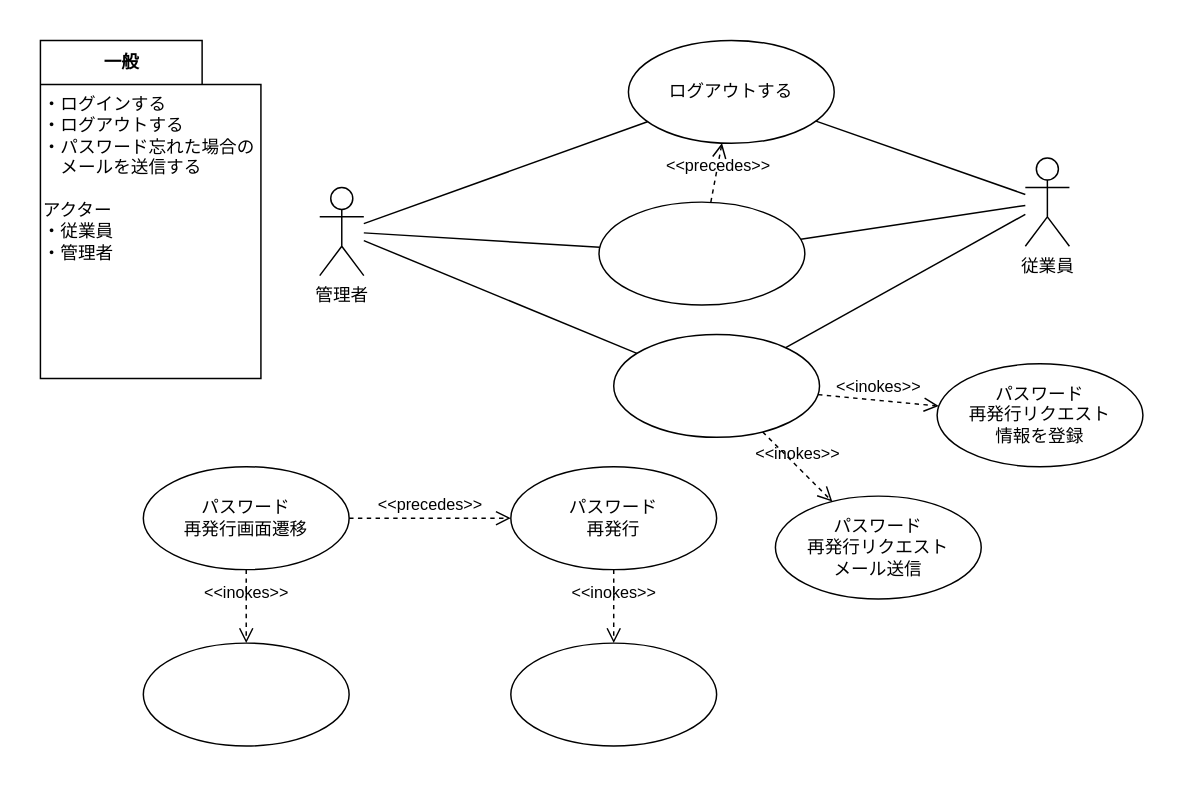
This 1197x785 diagram has some shape labels left out. The shapes that lost their labels are listed below. From the top down, each one's centre as x and y in pixels, then its label:
the point at 701,253: ログインする
the point at 716,385: パスワード 再発行リクエスト
the point at 245,694: パスワード 再発行テーブル参照
the point at 613,694: パスワード更新
